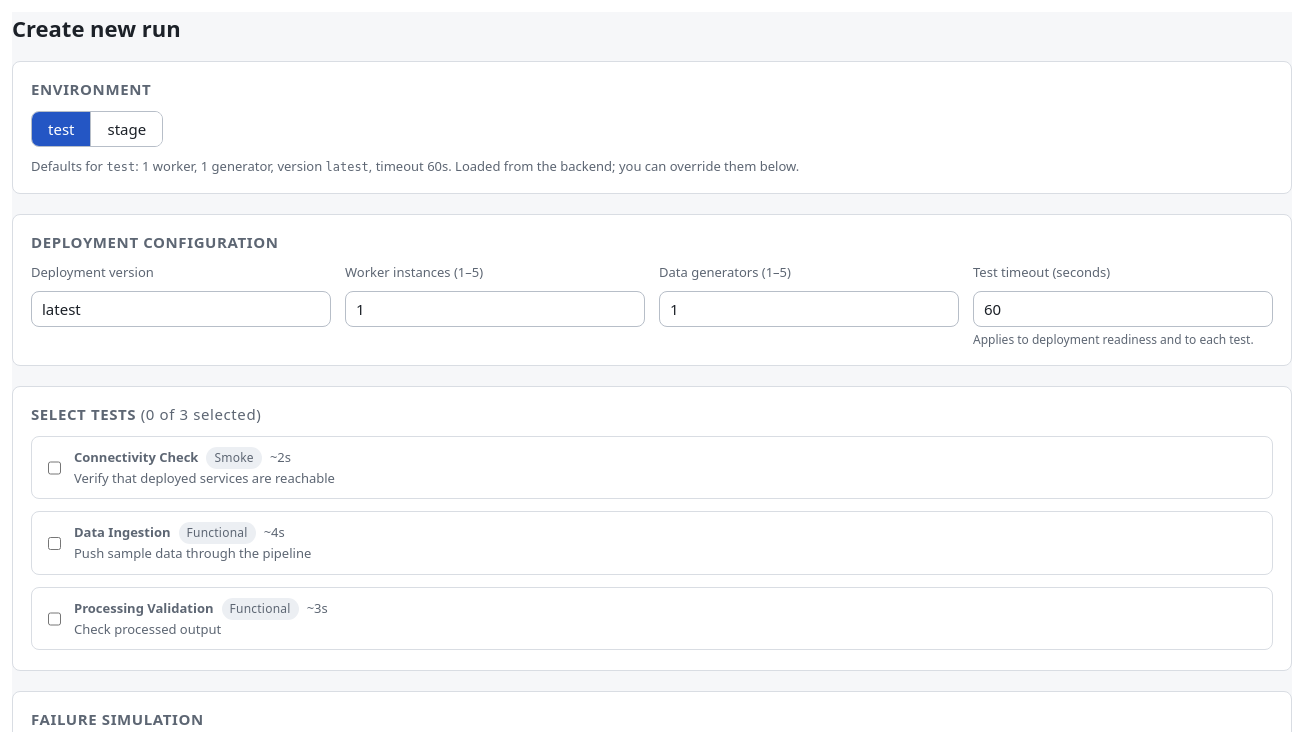
Test: NewRun › loads defaults from the backend for the selected environment
Expected: the button "test" is shown, [32,112,90,146]
Expected: the field labelled "Deployment version" holds "latest", [31,291,331,327]
Click the button "stage".
click(126, 129)  # box [90,112,162,146]
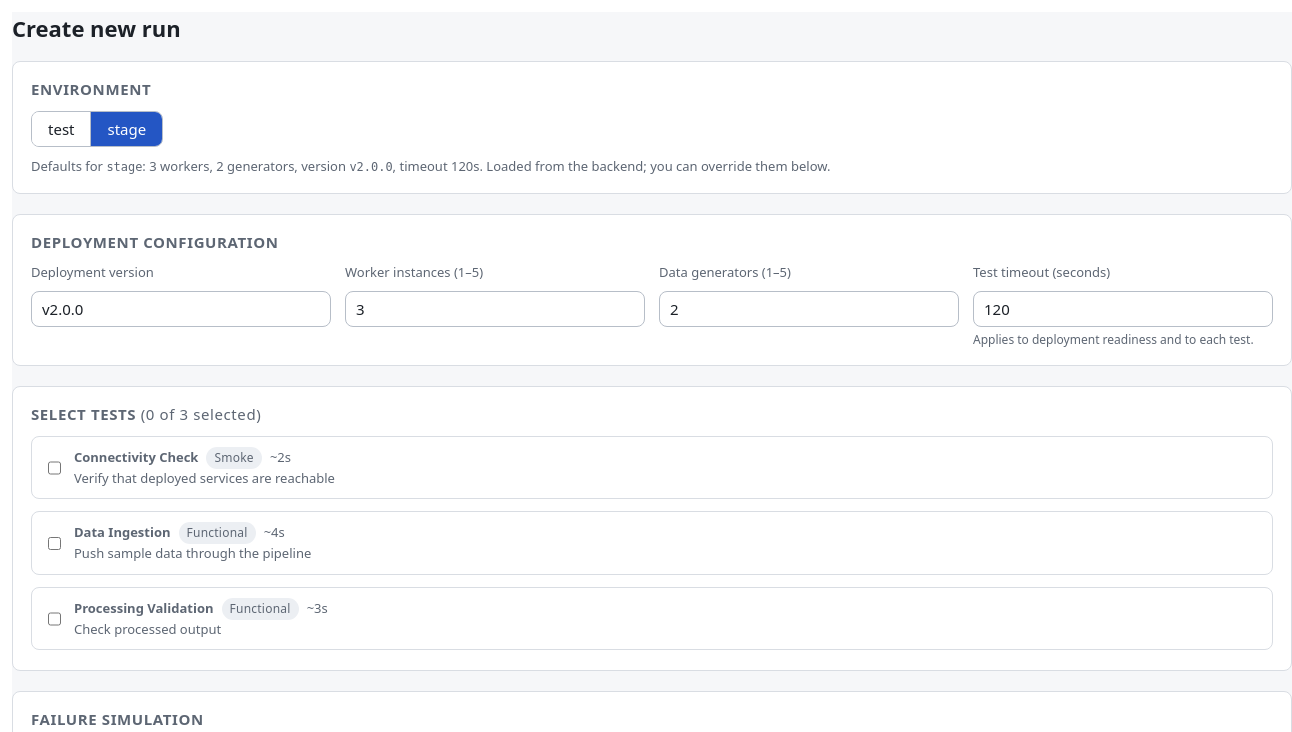
Expected: the field labelled "Deployment version" holds "v2.0.0", [31,291,331,327]
Expected: the number field labelled "Worker instances (1–5)" holds "3"
Expected: the number field labelled "Data generators (1–5)" holds "2", [659,291,959,327]
Replace the text in the number field labelled "Worker instances (1–5)" with "5" at (495,309), box [345,291,645,327]
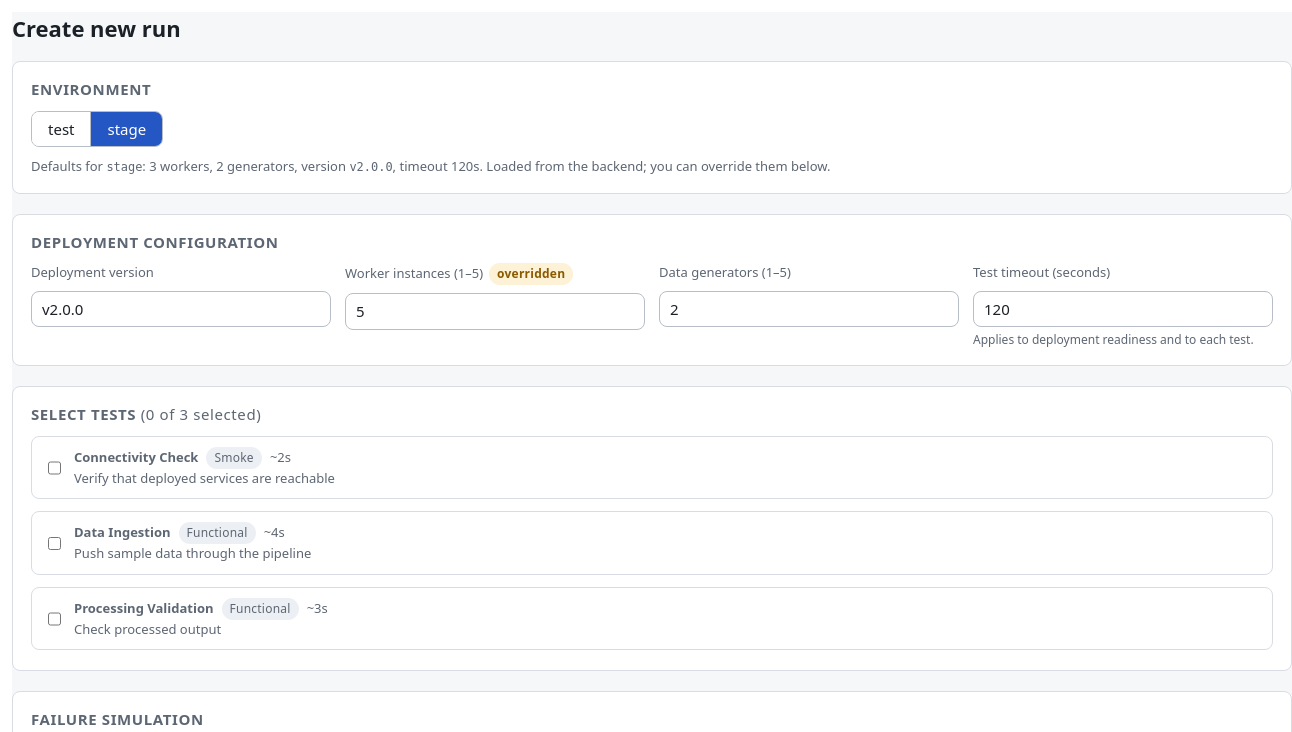
Expected: the text "overridden" is shown once, [489,263,573,285]
